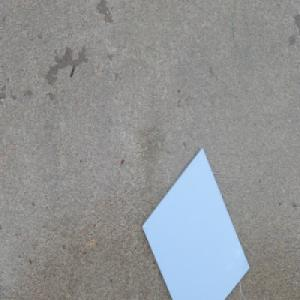PaintChip: (140, 146, 249, 300)
